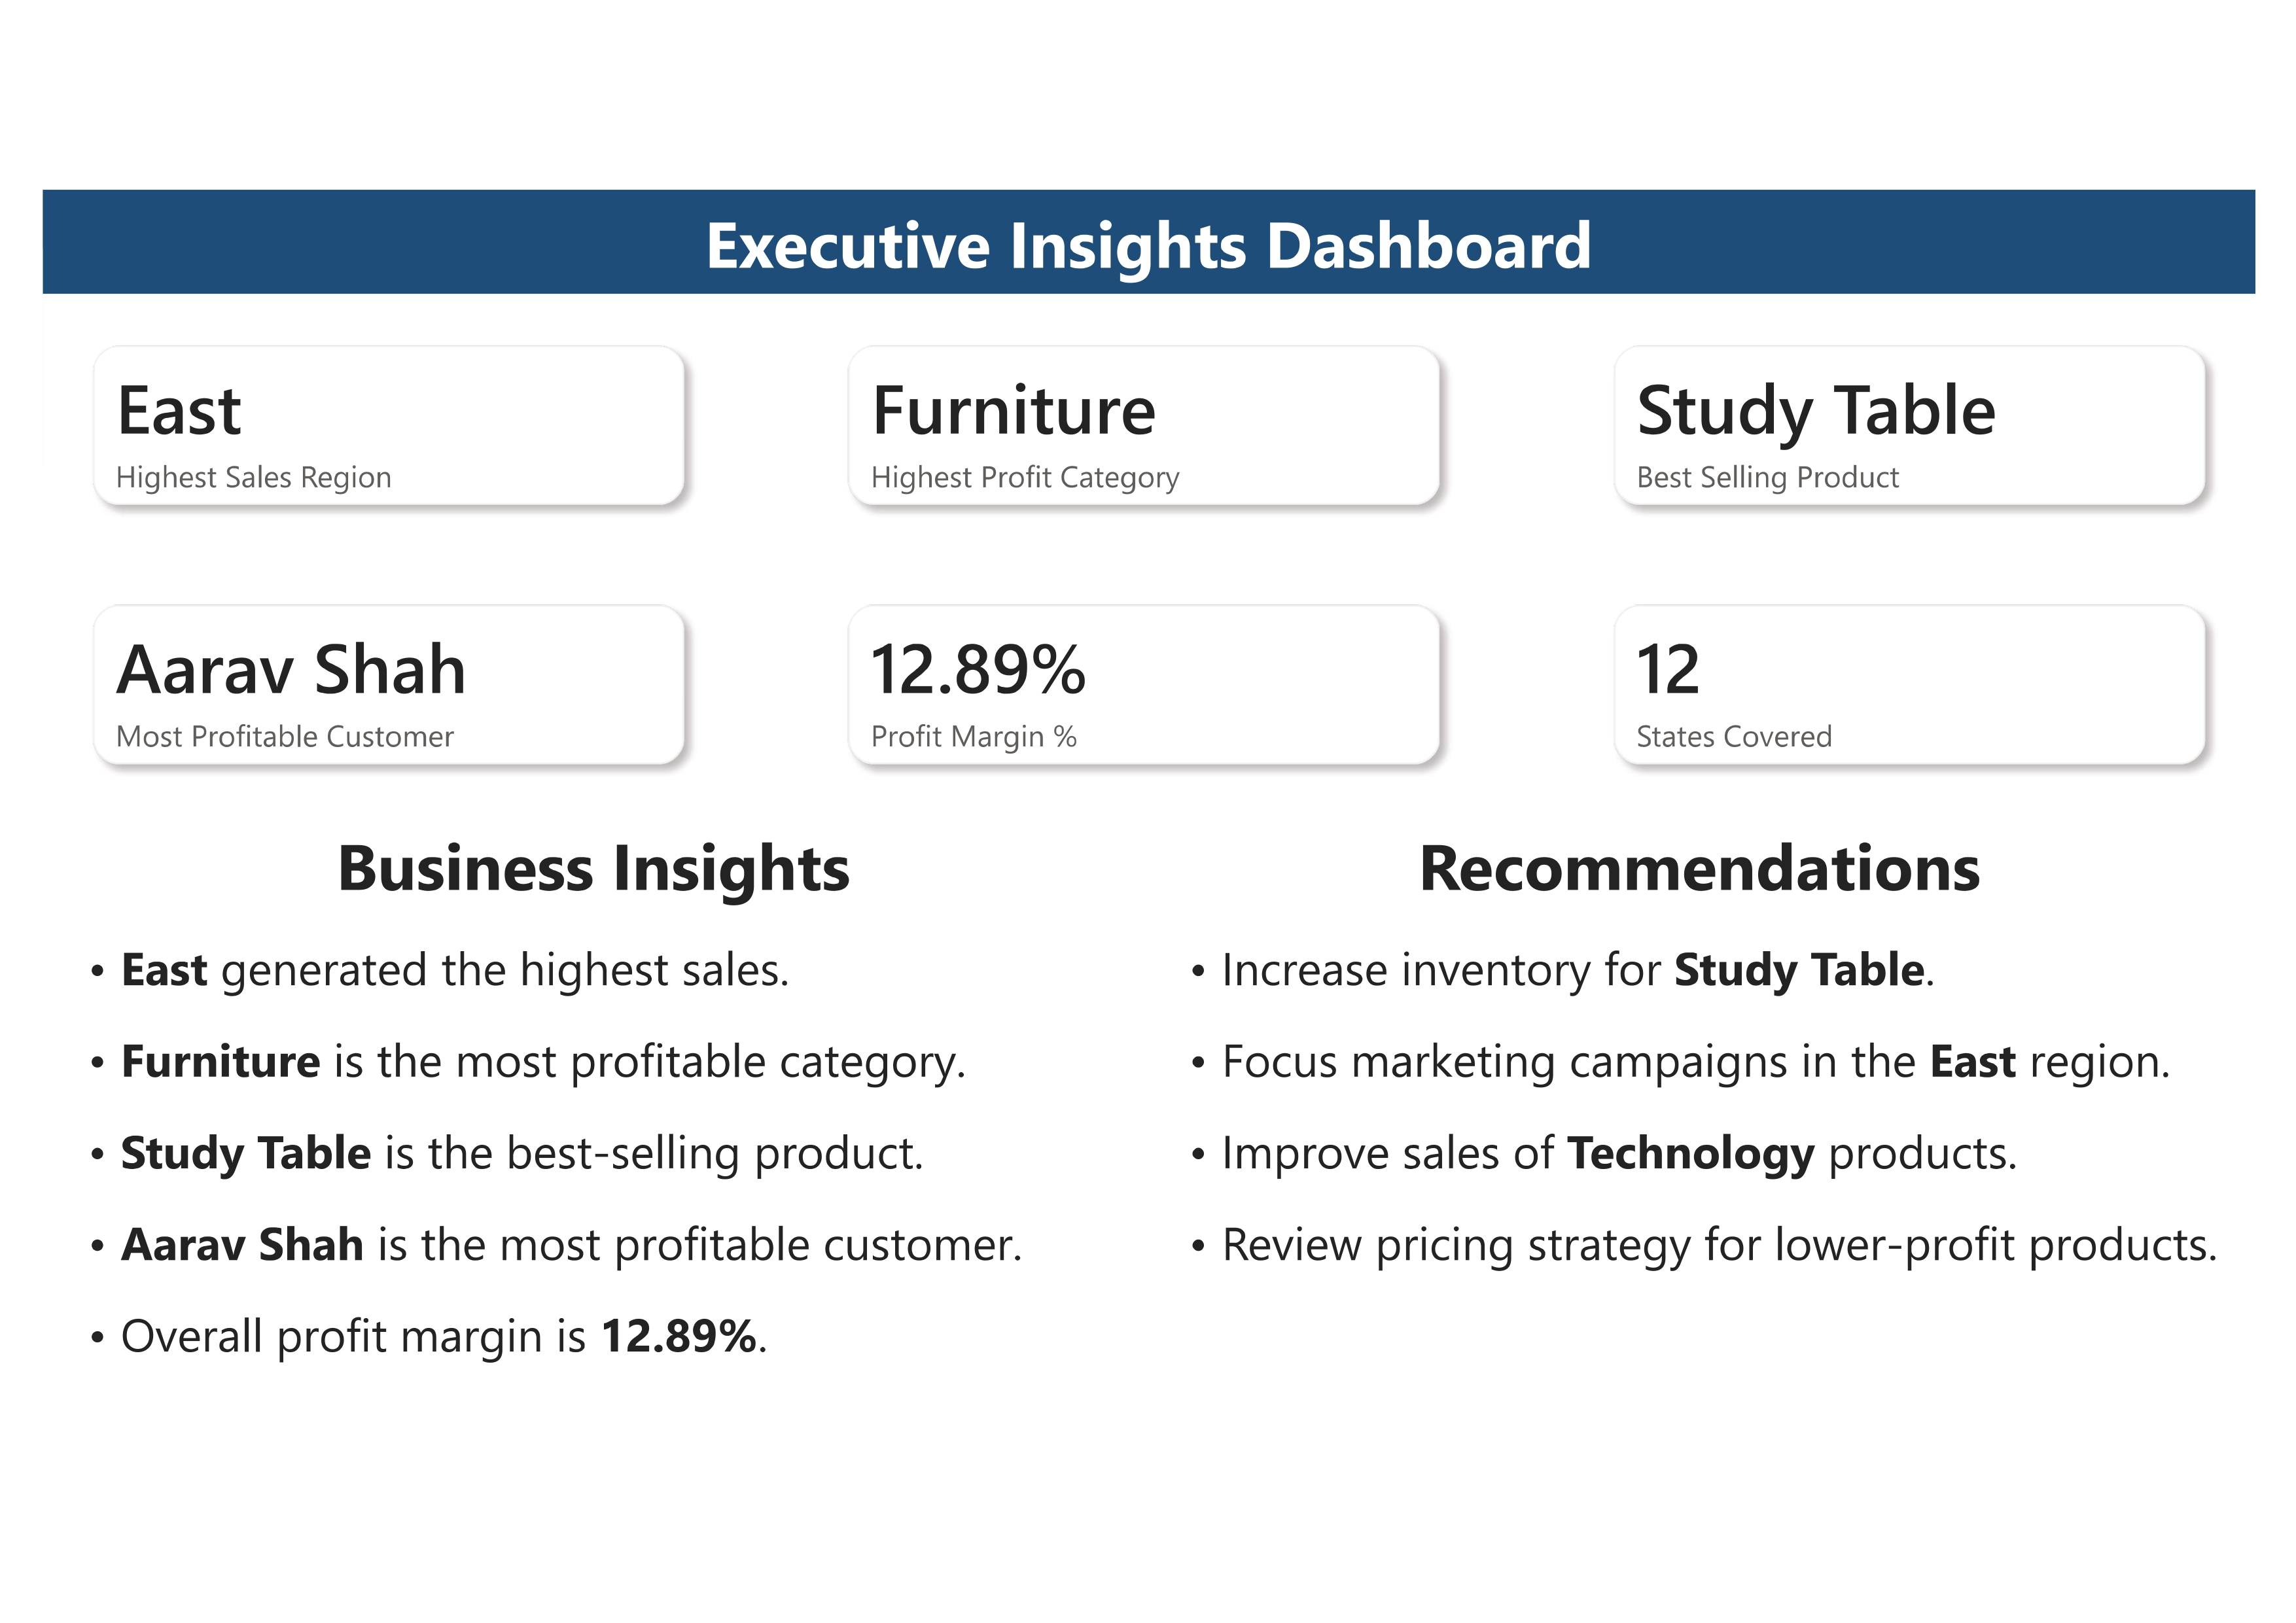

This screenshot's page, from the dashboard's own definition file:
{"tool":"powerbi","page":{"name":"Executive Insights","canvas":[1280,720],"ordinal":4},"visuals":[{"type":"textbox","box":[0,0,1280.3,60.4],"z":0},{"type":"cardVisual","fields":{"Data":["Orders.Most Profitable Customer"]},"box":[0,210.6,400,150],"z":1000},{"type":"cardVisual","fields":{"Data":["Orders.Highest Sales Region"]},"box":[0,60.8,400,150],"z":2000},{"type":"cardVisual","fields":{"Data":["Orders.Best Selling Product"]},"box":[880.4,60.8,400,150],"z":3000},{"type":"cardVisual","fields":{"Data":["Orders.Highest Profit Category"]},"box":[436.7,60.8,400,150],"z":4000},{"type":"cardVisual","fields":{"Data":["Orders.Profit Margin %"]},"box":[436.7,210.6,400,150],"z":5000},{"type":"cardVisual","fields":{"Data":["Orders.States Covered"]},"box":[880.4,210.6,400,150],"z":6000},{"type":"textbox","box":[0,360.3,637.3,360.3],"z":7000},{"type":"textbox","box":[637.3,360.3,643,360.3],"z":8000}]}

Visuals, with their boxes on the page's 1280x720 design canvas (x1, y1, x2, y2). These are canvas units, not pixel positions in the 2296x1623 screenshot, which may show the page scaled, cropped or inside an application window:
textbox: bbox=(0, 0, 1280, 60)
cardVisual - Orders.Most Profitable Customer: bbox=(0, 211, 400, 361)
cardVisual - Orders.Highest Sales Region: bbox=(0, 61, 400, 211)
cardVisual - Orders.Best Selling Product: bbox=(880, 61, 1280, 211)
cardVisual - Orders.Highest Profit Category: bbox=(437, 61, 837, 211)
cardVisual - Orders.Profit Margin %: bbox=(437, 211, 837, 361)
cardVisual - Orders.States Covered: bbox=(880, 211, 1280, 361)
textbox: bbox=(0, 360, 637, 721)
textbox: bbox=(637, 360, 1280, 721)
